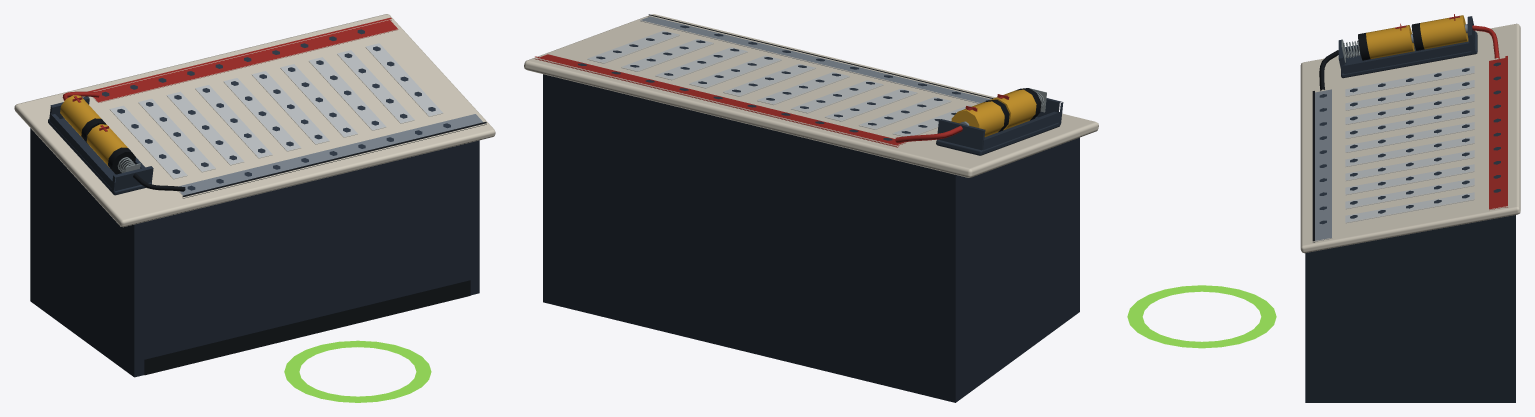
Rendered from protoboard.glb.
3 views of the same model, side by side, from view 1: azimuth 30°, elevation 25°; view 2: azimuth 150°, elevation 25°; view 3: azimuth 270°, elevation 25° (orthographic). The views are drawn at different scales.
Visible parts, largest first — view 1: protoboard_malha; view 2: protoboard_malha; view 3: protoboard_malha.
Boxes of the visible parts, <box> form: protoboard_malha: <box>14,14,495,402</box>; protoboard_malha: <box>524,14,1098,402</box>; protoboard_malha: <box>1127,14,1520,402</box>.
Size of the model in its own units: 2 by 1.13 by 1.79.
